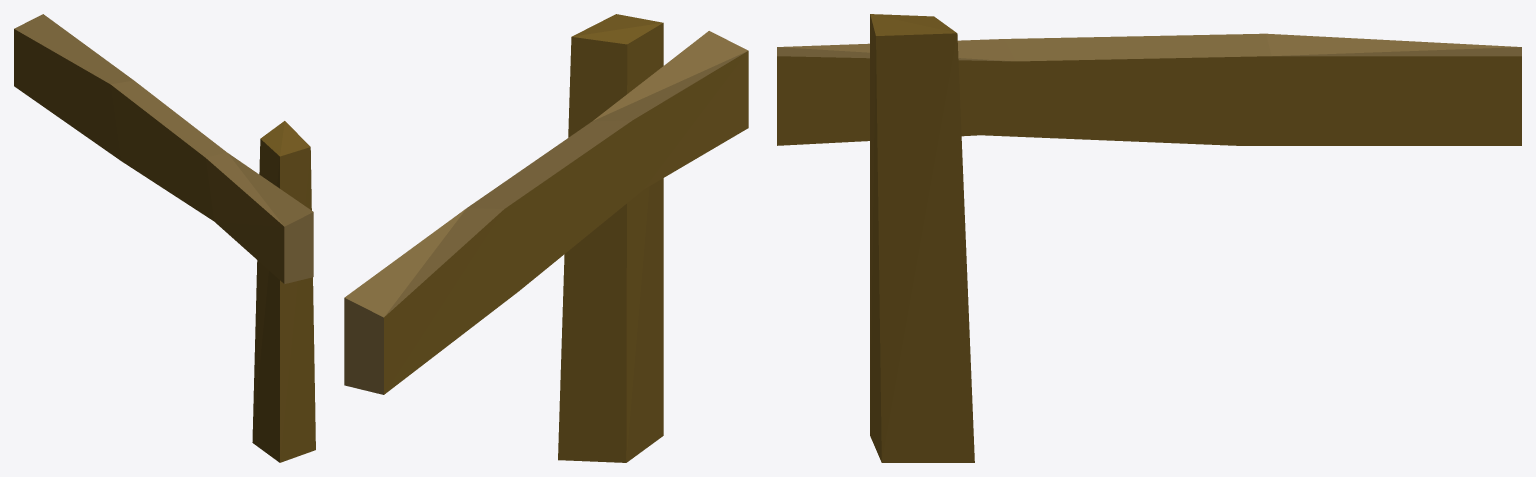
3 views of the same model, side by side, from view 1: azimuth 30°, elevation 25°; view 2: azimuth 150°, elevation 25°; view 3: azimuth 270°, elevation 25° (orthographic). The views are drawn at different scales.
Size of the model in its own units: 19 by 81 by 128.
Materials: 1 (1 with a texture image).
